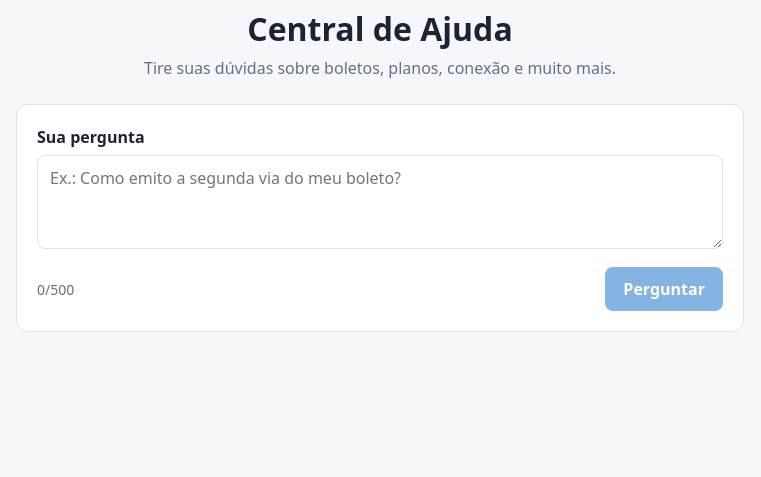
Test: AskPage › não mostra o aviso de simulação em respostas reais
Type "boleto" into the text box labelled "Sua pergunta" at point(380, 202), box [37,155,723,249]
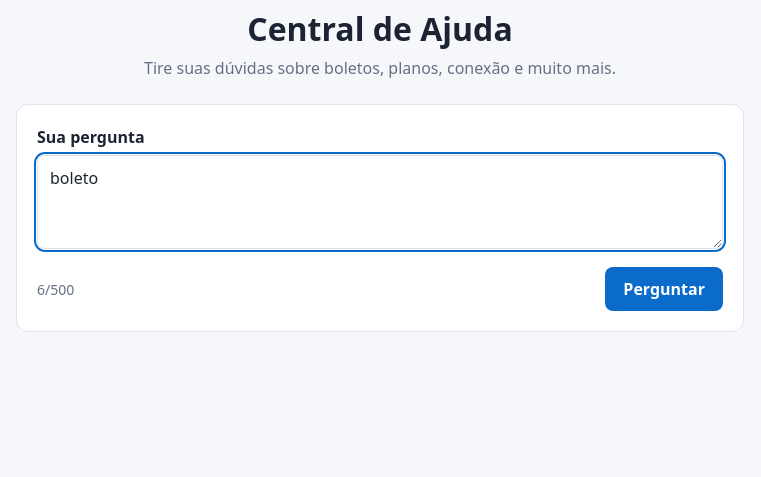
Click the button "Perguntar" at point(664, 289), box [605,267,723,311]
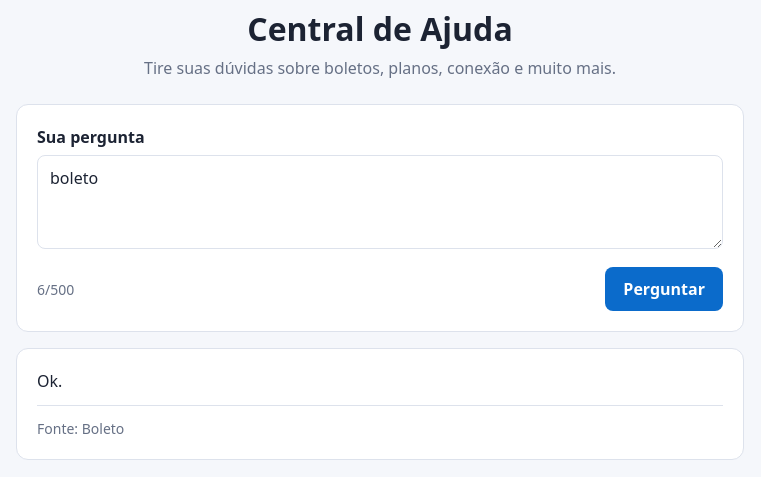
Expected: the text "Ok." is shown, [37,370,62,392]
